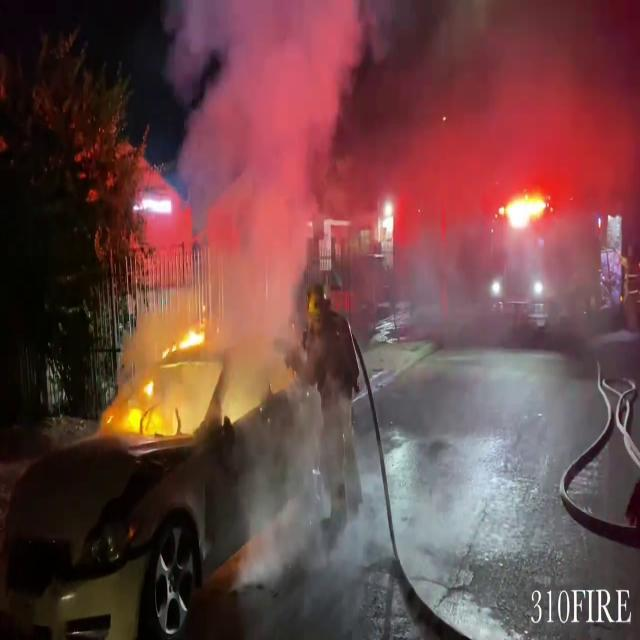Smoke: (172, 0, 362, 417)
